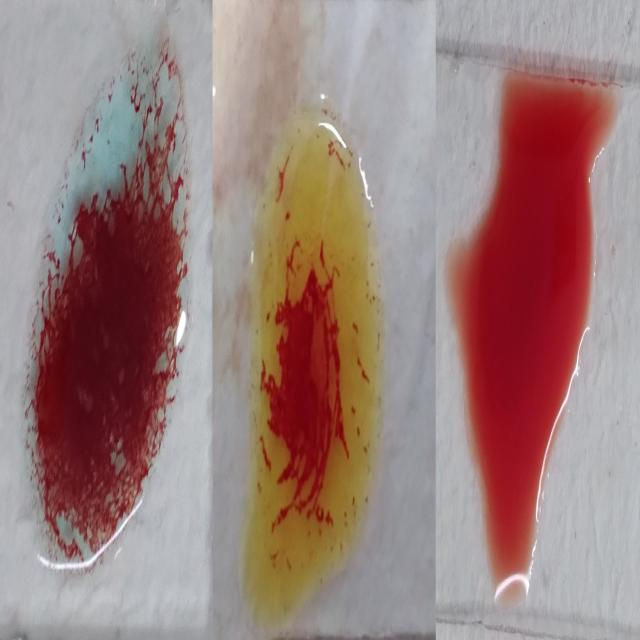A: (21, 23, 188, 560)
B: (248, 112, 378, 608)
